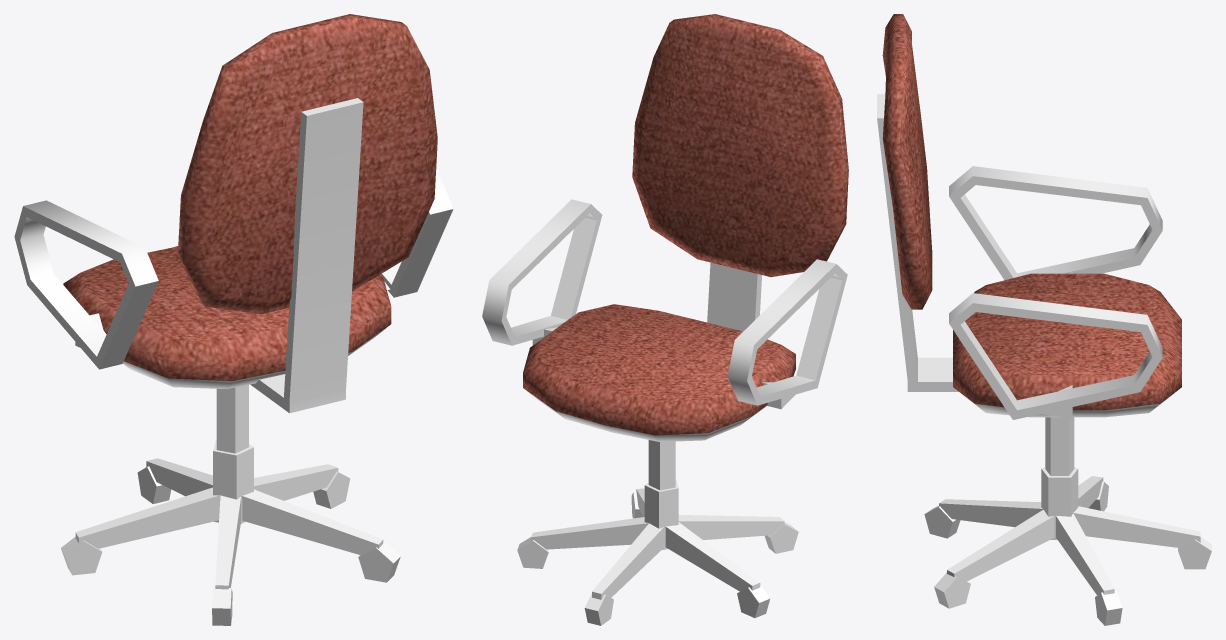
The model's file is Chair_17.glb.
The picture shows the model from 3 angles, left to right: view 1: azimuth 30°, elevation 25°; view 2: azimuth 150°, elevation 25°; view 3: azimuth 270°, elevation 25°; orthographic projection. The views are drawn at different scales.
Visible parts, largest first — view 1: Chair_17; view 2: Chair_17; view 3: Chair_17.
Part boxes in pixels (x1,y1,x2,y2): Chair_17: [14, 14, 453, 625]; Chair_17: [482, 14, 848, 625]; Chair_17: [877, 14, 1211, 625].
Size of the model in its own units: 0.604 by 1.08 by 0.6238.
Materials: 2 (1 with a texture image).
